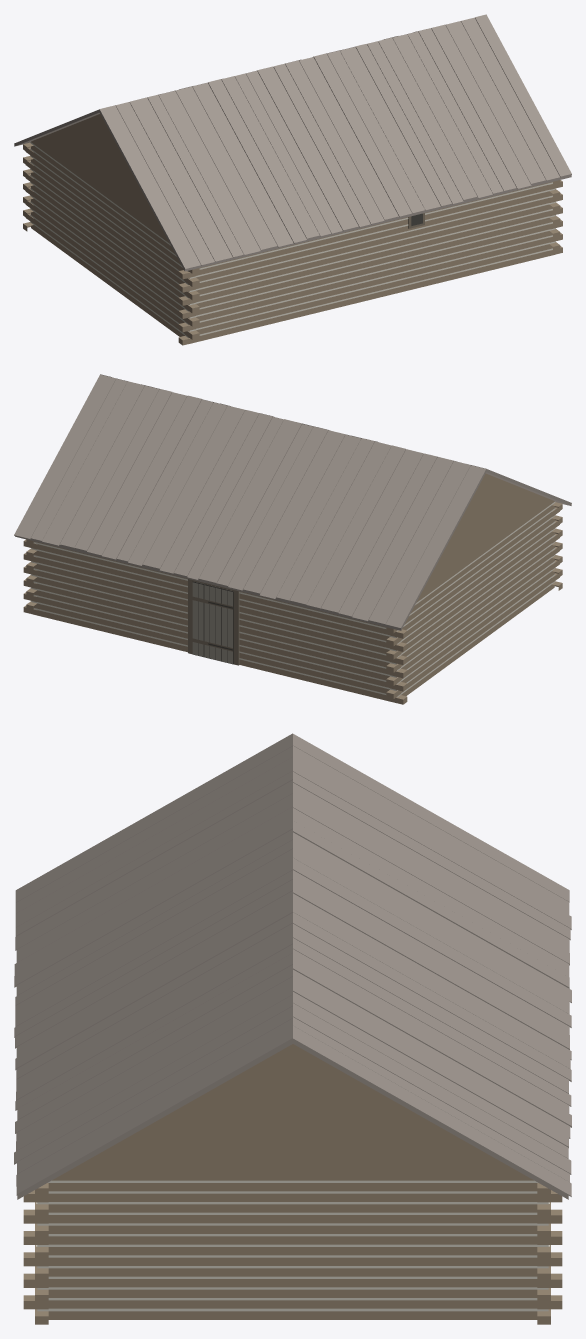
The model's file is clybourn_slaughterhouse__log_1827.glb.
3 renders of one model, top to bottom at view 1: azimuth 30°, elevation 25°; view 2: azimuth 150°, elevation 25°; view 3: azimuth 270°, elevation 25°, orthographic. The views are drawn at different scales.
Visible parts, largest first — view 1: clybourn_slaughterhouse__log_1827; view 2: clybourn_slaughterhouse__log_1827; view 3: clybourn_slaughterhouse__log_1827.
Boxes of the visible parts, x1,y1,x2,y2 form: clybourn_slaughterhouse__log_1827: [14, 14, 571, 345]; clybourn_slaughterhouse__log_1827: [14, 374, 571, 704]; clybourn_slaughterhouse__log_1827: [14, 733, 571, 1324].
Bounding box in the file's own units: 12.7 × 5.65 × 9.82.
